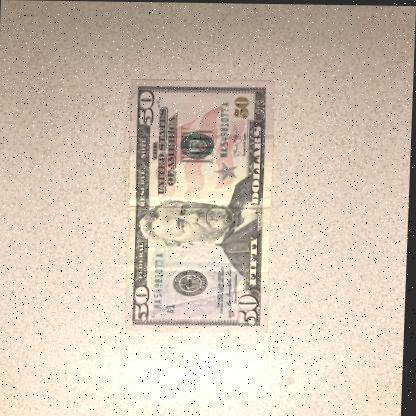fifty-front: (124, 78, 278, 334)
